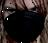with_mask: (1, 1, 48, 43)
